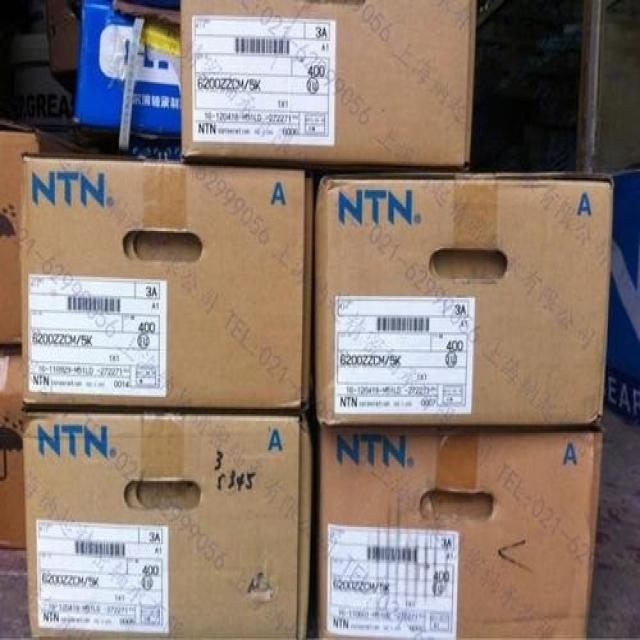box: (313, 176, 616, 432), (22, 154, 317, 408), (23, 411, 311, 637), (316, 421, 603, 638), (181, 2, 474, 170), (0, 116, 99, 346), (76, 3, 180, 141), (605, 171, 639, 430), (1, 343, 24, 550), (0, 64, 75, 127), (48, 4, 83, 103), (0, 30, 49, 67)
